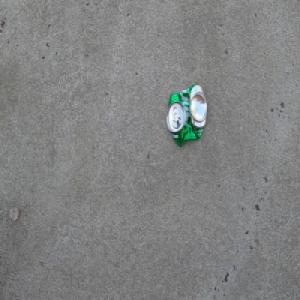SodaCan: (165, 82, 207, 147)
